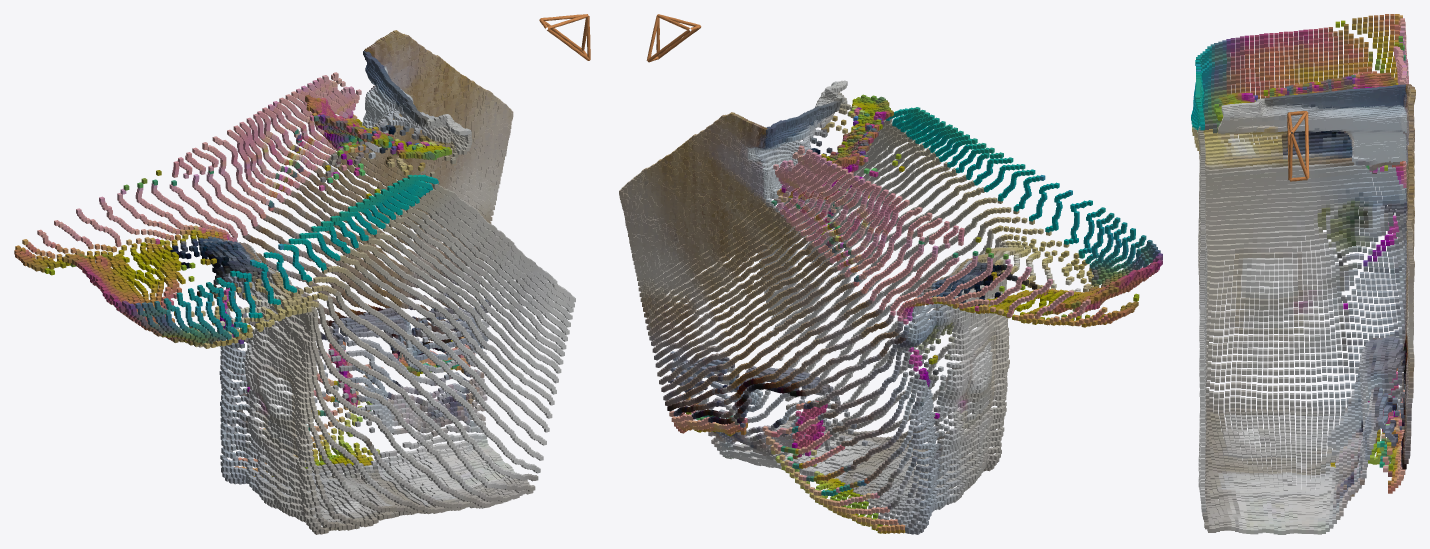
File: pred_1-compressed.glb
3 views of the same model, side by side, from view 1: azimuth 30°, elevation 25°; view 2: azimuth 150°, elevation 25°; view 3: azimuth 270°, elevation 25° (orthographic). The views are drawn at different scales.
Size of the model in its own units: 7.27 by 5.69 by 2.54.
